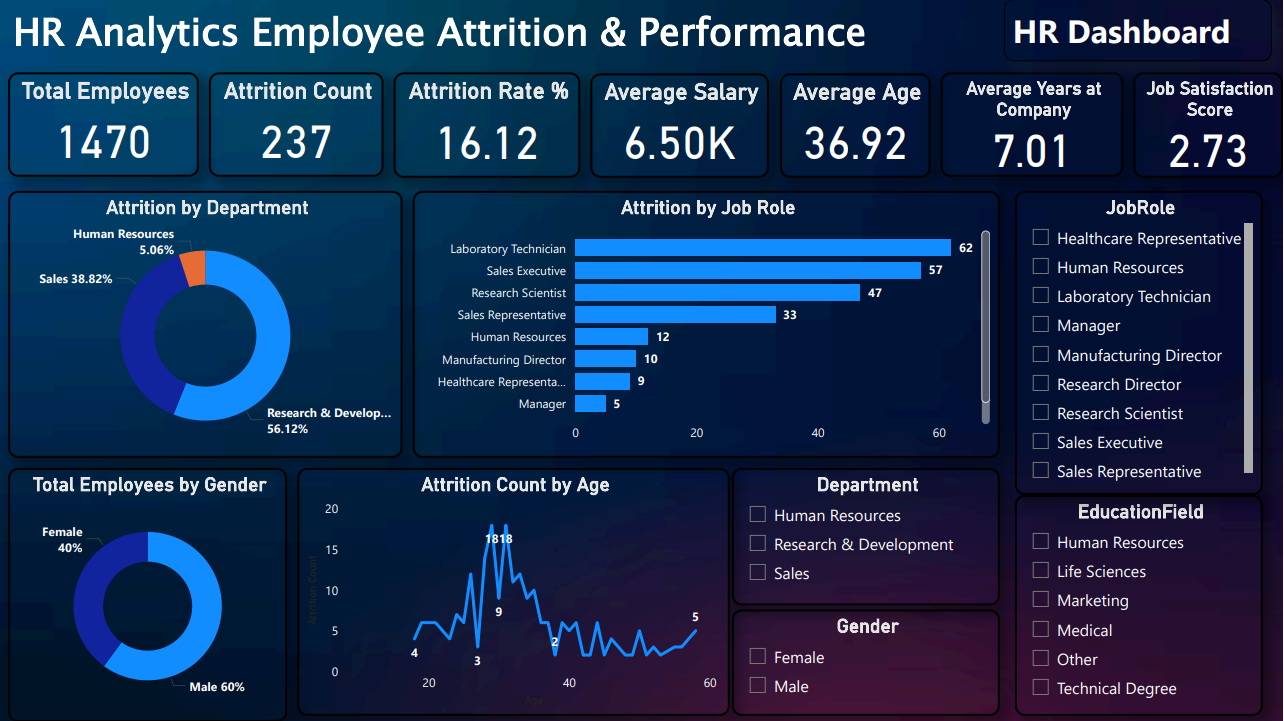

Layout of this report page (visuals, bound fields, positions):
{"tool":"powerbi","page":{"name":"HR Overview","canvas":[1280,720],"ordinal":0},"visuals":[{"type":"card","title":"Total Employees","fields":{"Values":["CountNonNull(HR-Employee-Attrition.EmployeeCount)"]},"box":[9.6,72.7,190.7,104.3],"z":0},{"type":"card","title":"Attrition Count","fields":{"Values":["Attrition Lookup.Attrition Count"]},"box":[209.9,72.7,174.3,104.3],"z":1000},{"type":"card","title":"Attrition Rate %","fields":{"Values":["HR-Employee-Attrition.Attrition Rate %"]},"box":[393.8,72.7,186.6,105.7],"z":2000},{"type":"card","title":"Average Salary","fields":{"Values":["Avg(HR-Employee-Attrition.MonthlyIncome)"]},"box":[590.1,74.1,178.4,104.3],"z":3000},{"type":"card","title":"Average Age","fields":{"Values":["Avg(HR-Employee-Attrition.Age)"]},"box":[779.4,74.1,149.6,104.3],"z":4000},{"type":"card","title":"Average Years at Company","fields":{"Values":["Avg(HR-Employee-Attrition.YearsAtCompany)"]},"box":[938.6,72.7,182.5,104.3],"z":5000},{"type":"card","title":"Job Satisfaction Score","fields":{"Values":["Avg(HR-Employee-Attrition.JobSatisfaction)"]},"box":[1130.7,72.7,149.6,105.7],"z":6000},{"type":"donutChart","title":"Attrition by Department","fields":{"Category":["Department Lookup.Department"],"Y":["Attrition Lookup.Attrition Count"]},"box":[9.6,190.7,393.8,266.2],"z":7000},{"type":"barChart","title":"Attrition by Job Role","fields":{"Category":["HR-Employee-Attrition.JobRole"],"Y":["Attrition Lookup.Attrition Count"]},"box":[413,190.7,584.6,266.2],"z":8000},{"type":"lineChart","fields":{"Category":["HR-Employee-Attrition.Age"],"Y":["Attrition Lookup.Attrition Count"]},"box":[297.8,466.6,430.9,247],"z":9000},{"type":"donutChart","fields":{"Category":["HR-Employee-Attrition.Gender"],"Y":["Attrition Lookup.Total Employees"]},"box":[9.6,466.6,278.6,253.9],"z":10000},{"type":"slicer","title":"Department","fields":{"Values":["Department Lookup.Department"]},"box":[731.4,466.6,266.2,137.2],"z":11000},{"type":"slicer","title":"EducationField","fields":{"Values":["HR-Employee-Attrition.EducationField"]},"box":[1012.7,494,247,219.6],"z":12000},{"type":"slicer","title":"Gender","fields":{"Values":["HR-Employee-Attrition.Gender"]},"box":[731.4,607.9,266.2,105.7],"z":13000},{"type":"slicer","title":"JobRole","fields":{"Values":["HR-Employee-Attrition.JobRole"]},"box":[1012.7,190.7,247,303.3],"z":14000},{"type":"textbox","box":[1001.7,0,267.6,61.7],"z":15000},{"type":"textbox","box":[9.6,0,882.3,74.1],"z":16000}]}

Visuals, with their boxes in screenshot pixels (x1, y1, x2, y2), scaled from the page's 1280x720 canvas onto the 1284x721 screenshot:
"Total Employees" card: select_region(10, 73, 201, 177)
"Attrition Count" card: select_region(211, 73, 385, 177)
"Attrition Rate %" card: select_region(395, 73, 582, 179)
"Average Salary" card: select_region(592, 74, 771, 179)
"Average Age" card: select_region(782, 74, 932, 179)
"Average Years at Company" card: select_region(942, 73, 1125, 177)
"Job Satisfaction Score" card: select_region(1134, 73, 1283, 179)
"Attrition by Department" donutChart: select_region(10, 191, 405, 458)
"Attrition by Job Role" barChart: select_region(414, 191, 1001, 458)
lineChart - HR-Employee-Attrition.Age x Attrition Lookup.Attrition Count: select_region(299, 467, 731, 715)
donutChart - HR-Employee-Attrition.Gender x Attrition Lookup.Total Employees: select_region(10, 467, 289, 720)
"Department" slicer: select_region(734, 467, 1001, 605)
"EducationField" slicer: select_region(1016, 495, 1264, 715)
"Gender" slicer: select_region(734, 609, 1001, 715)
"JobRole" slicer: select_region(1016, 191, 1264, 495)
textbox: select_region(1005, 0, 1273, 62)
textbox: select_region(10, 0, 895, 74)
